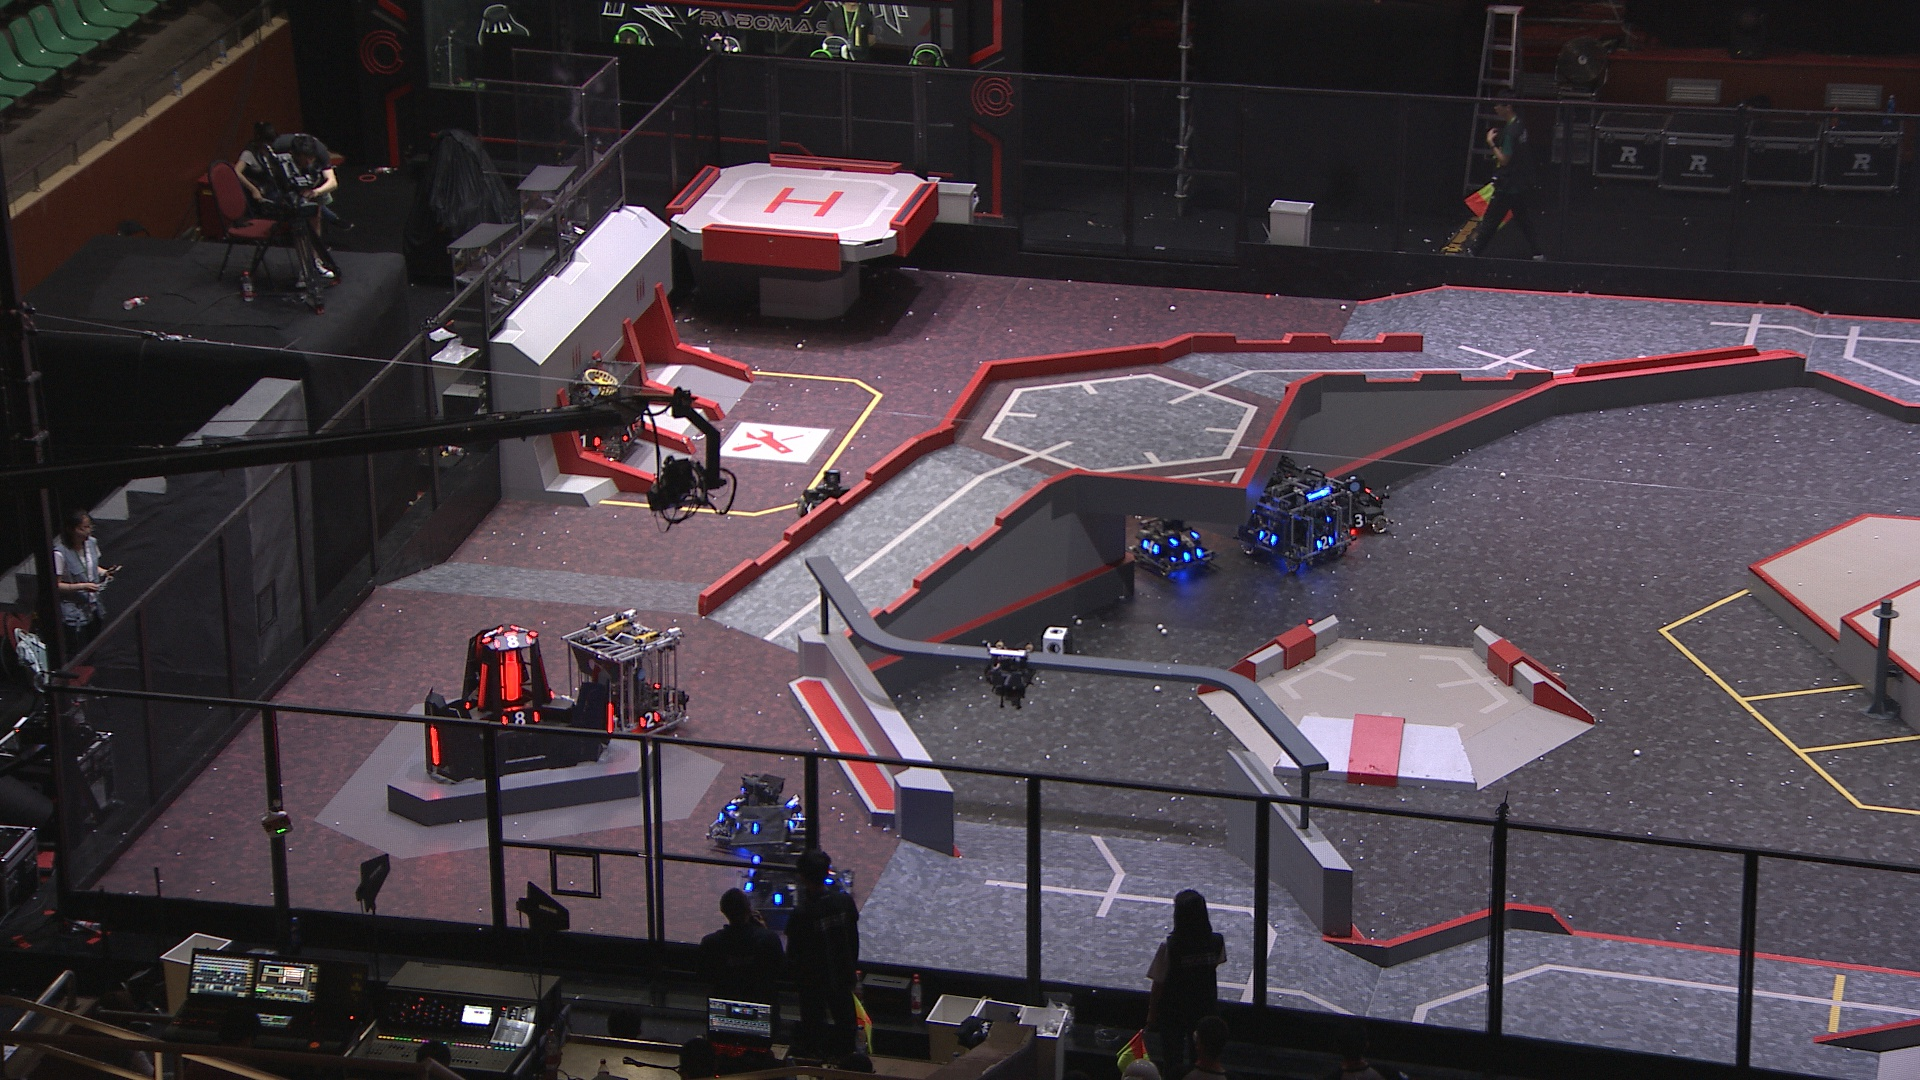armor: (498, 651, 522, 702), (500, 709, 542, 728), (491, 633, 533, 650), (774, 889, 803, 911), (988, 673, 1025, 688), (1167, 531, 1200, 546), (1254, 529, 1278, 549), (429, 727, 440, 764), (1179, 549, 1207, 564), (636, 709, 661, 727), (477, 661, 487, 707), (579, 433, 604, 448), (1139, 541, 1164, 556), (481, 628, 501, 646), (1313, 534, 1335, 551), (621, 419, 637, 440), (727, 796, 744, 814), (605, 703, 615, 735), (789, 811, 804, 829), (1348, 513, 1367, 527), (822, 868, 839, 884), (803, 501, 814, 516)
base: (419, 622, 618, 785)
car: (560, 608, 688, 742), (719, 800, 858, 922), (1240, 456, 1354, 564), (545, 361, 647, 463), (704, 773, 816, 855), (1133, 517, 1226, 576), (1323, 476, 1395, 538), (795, 467, 858, 526)
watcher: (981, 638, 1039, 711)
